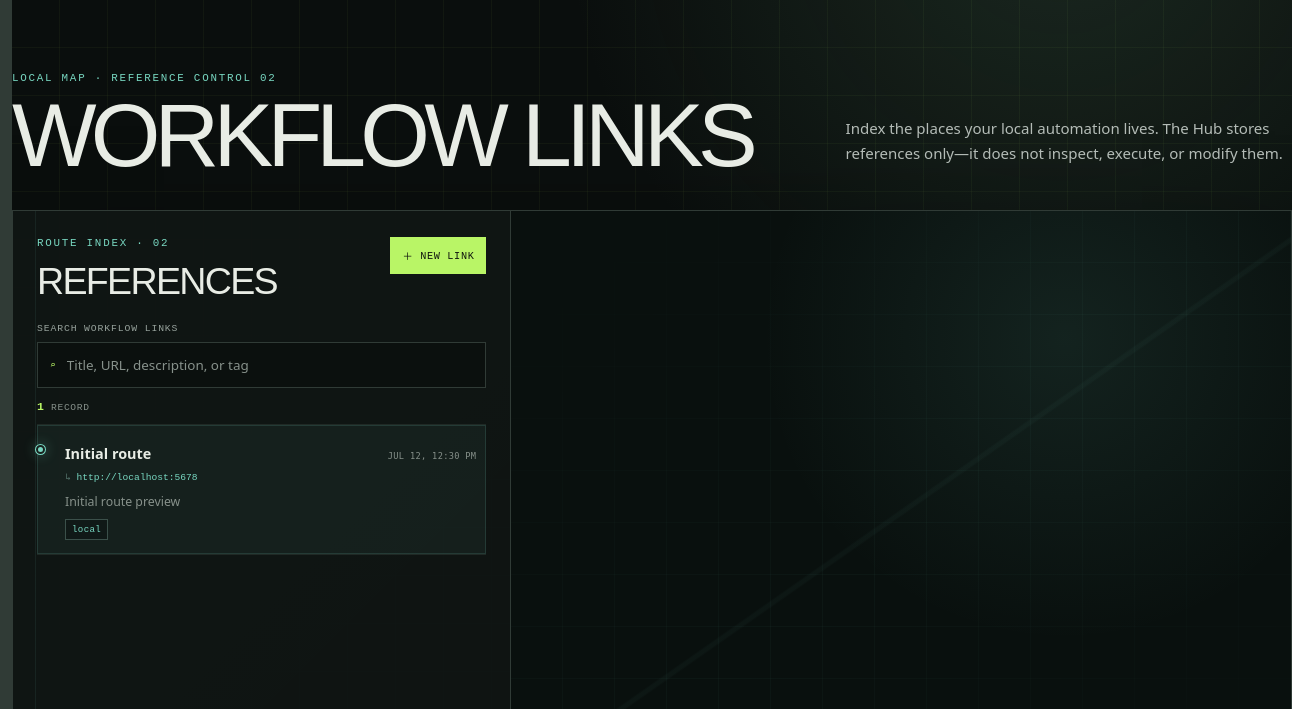
it: Workflow Links directory › deterministically reloads when a pending query returns to its committed value
The image size is (1292, 709).
Expected: the button "Initial route" is shown, [55, 430, 486, 519]
Type "temporary" into the search field labelled "Search workflow links" at (270, 365), box [67, 343, 474, 387]
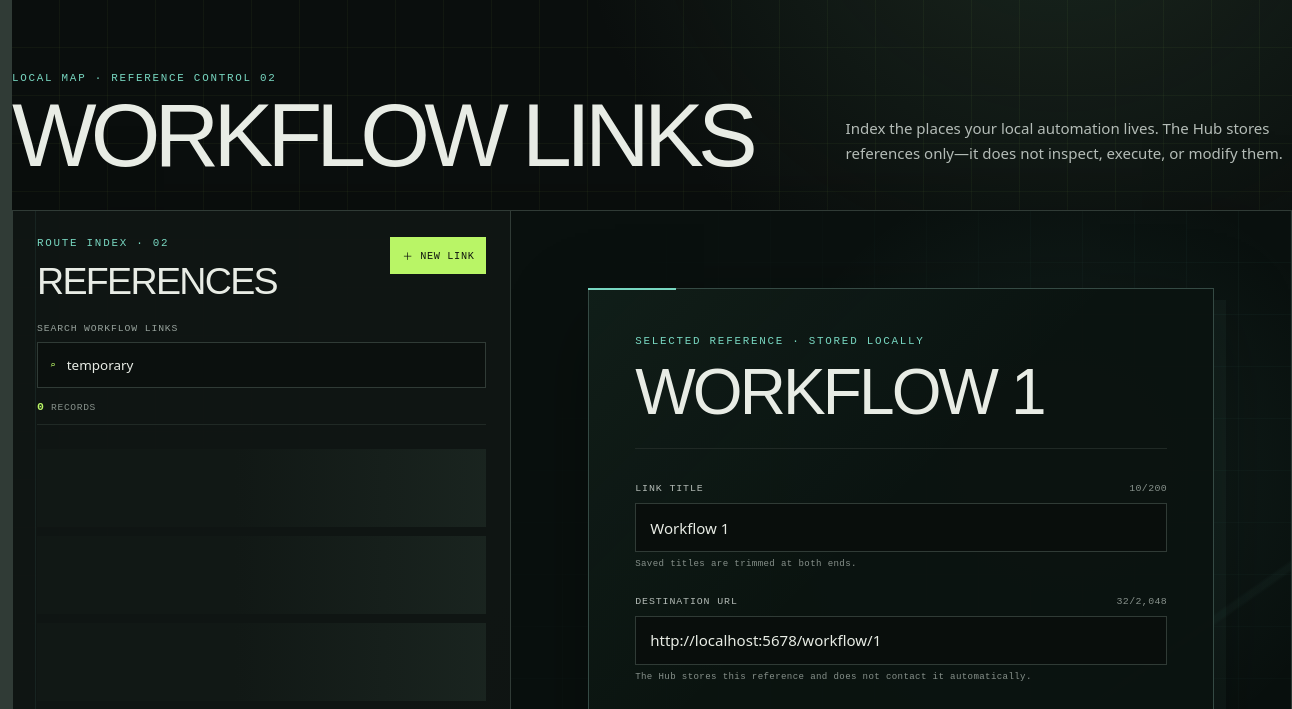
Clear the search field labelled "Search workflow links" at (270, 365), box [67, 343, 474, 387]
Wait 250 ms
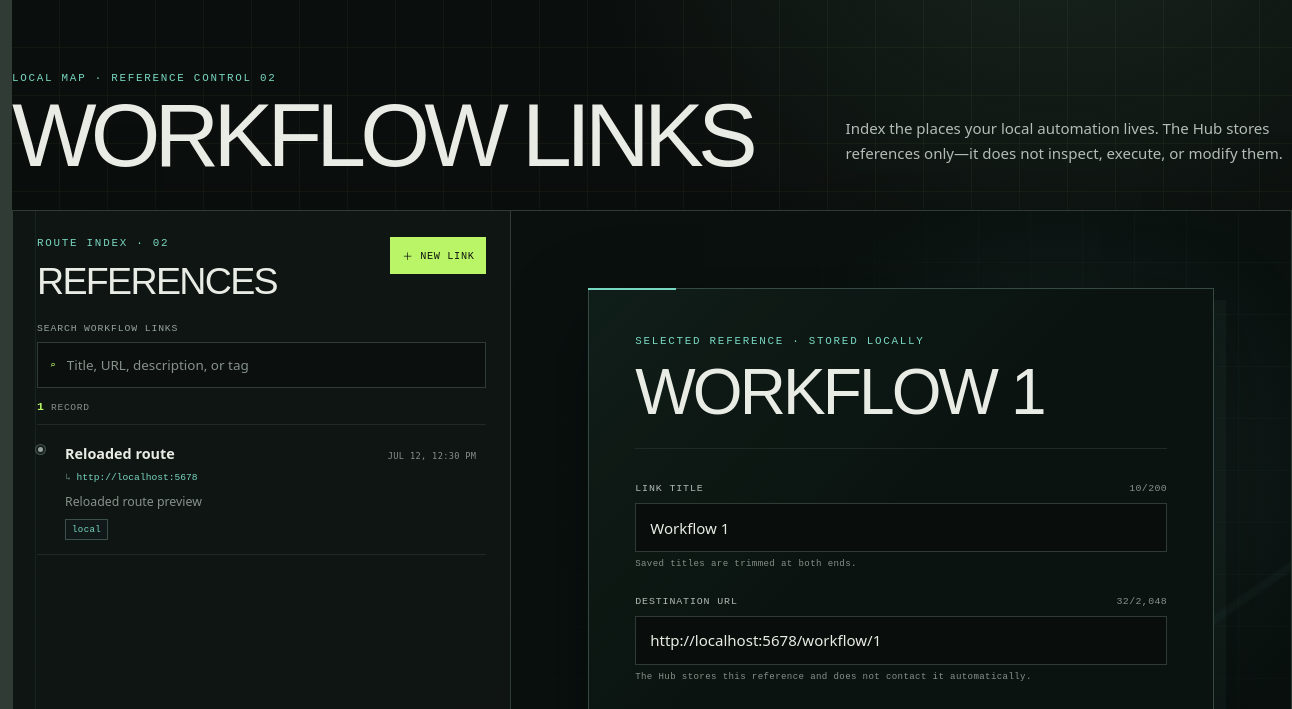
Result: the button "Reloaded route" is shown at [55, 430, 486, 519]
